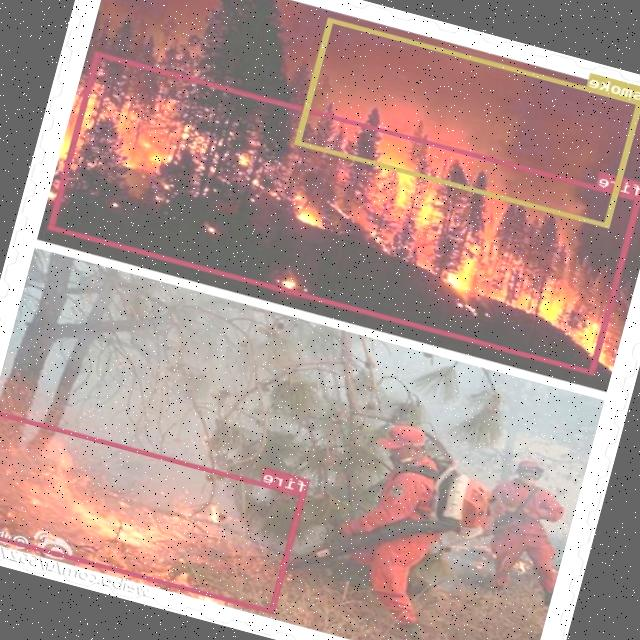fire: (48, 51, 640, 374), (0, 409, 306, 613)
smoke: (295, 17, 640, 227)
